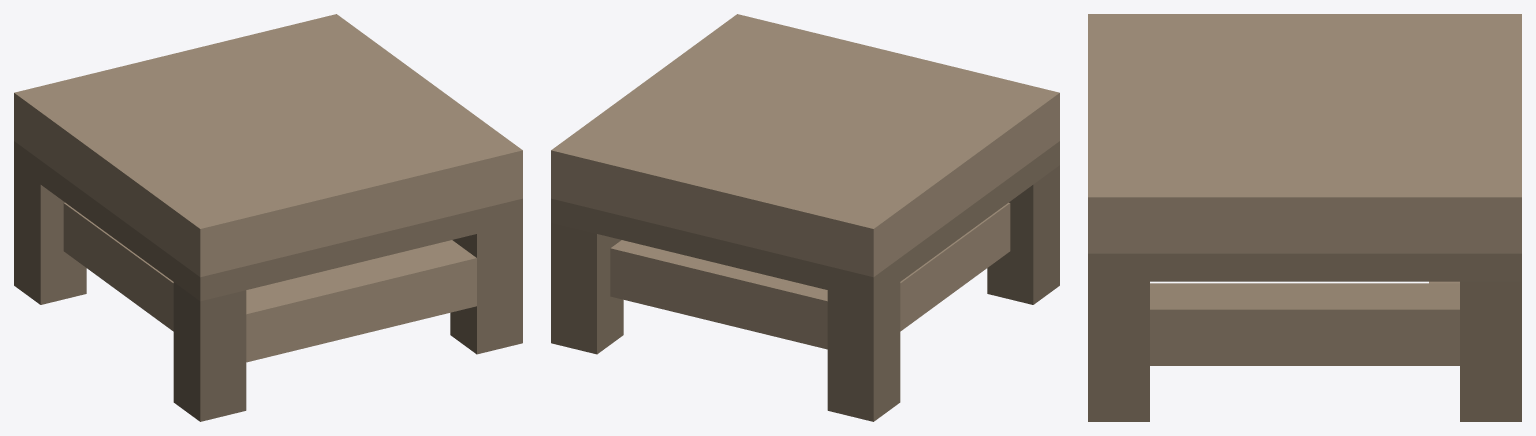
File: taburete_desgastada_01.glb
3 renders of one model, left to right at view 1: azimuth 30°, elevation 25°; view 2: azimuth 150°, elevation 25°; view 3: azimuth 270°, elevation 25°, orthographic. The views are drawn at different scales.
Visible parts, largest first — view 1: taburete_desgastada; view 2: taburete_desgastada; view 3: taburete_desgastada.
Boxes of the visible parts, x1,y1,x2,y2 form: taburete_desgastada: [14, 14, 522, 421]; taburete_desgastada: [551, 14, 1059, 421]; taburete_desgastada: [1088, 14, 1521, 421].
Size of the model in its own units: 1 by 0.5714 by 1.
